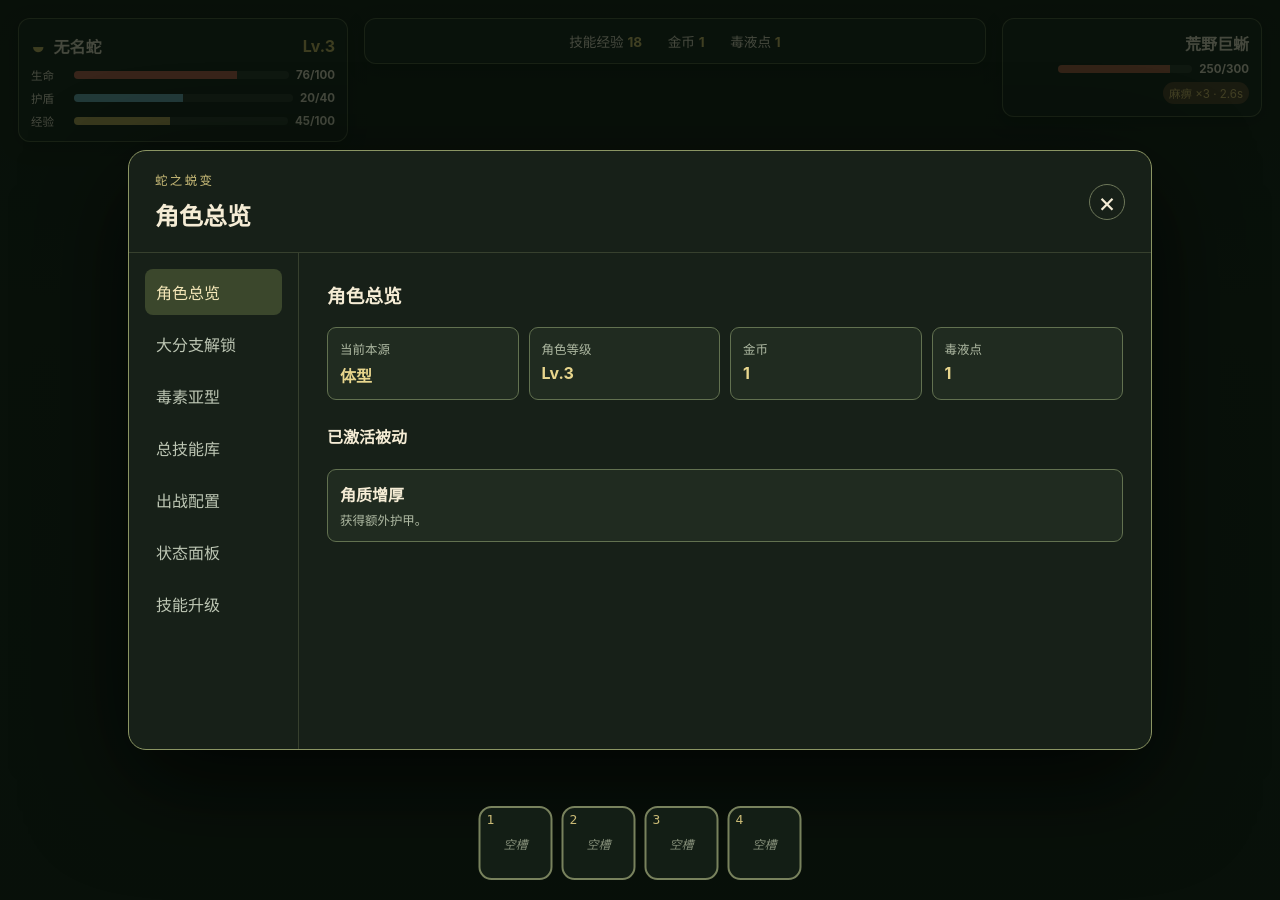
Test: GameShell › renders overview passives and player status detail
Expected: the text "角质增厚" is shown, top-left (340, 485), bottom-right (404, 505)
Click the tab "状态面板".
click(214, 552)  # box top-left (145, 529), bottom-right (282, 575)
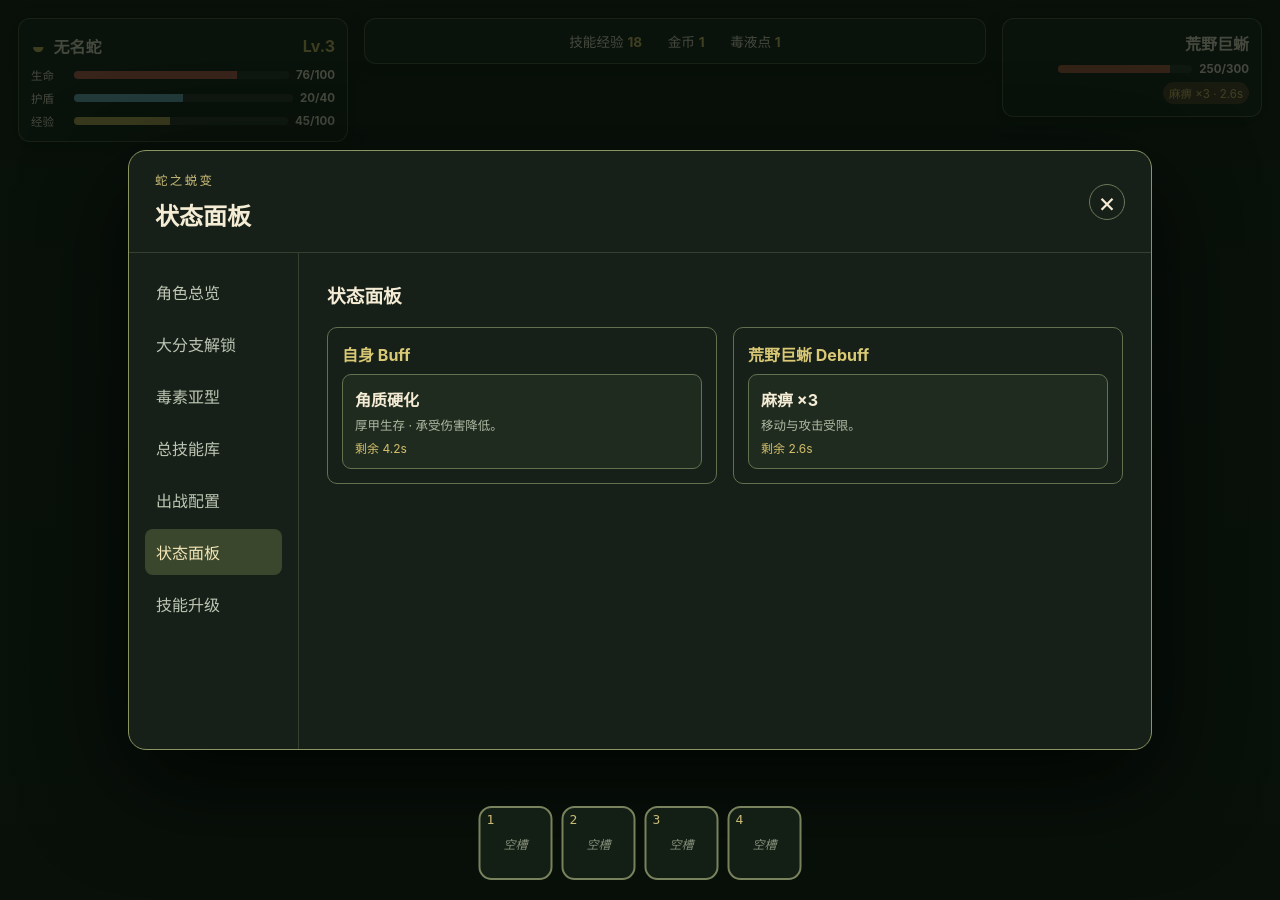
Result: the text "角质硬化" is shown at top-left (355, 390), bottom-right (419, 410)
Result: the text "剩余 4.2s" is shown at top-left (355, 441), bottom-right (407, 456)
